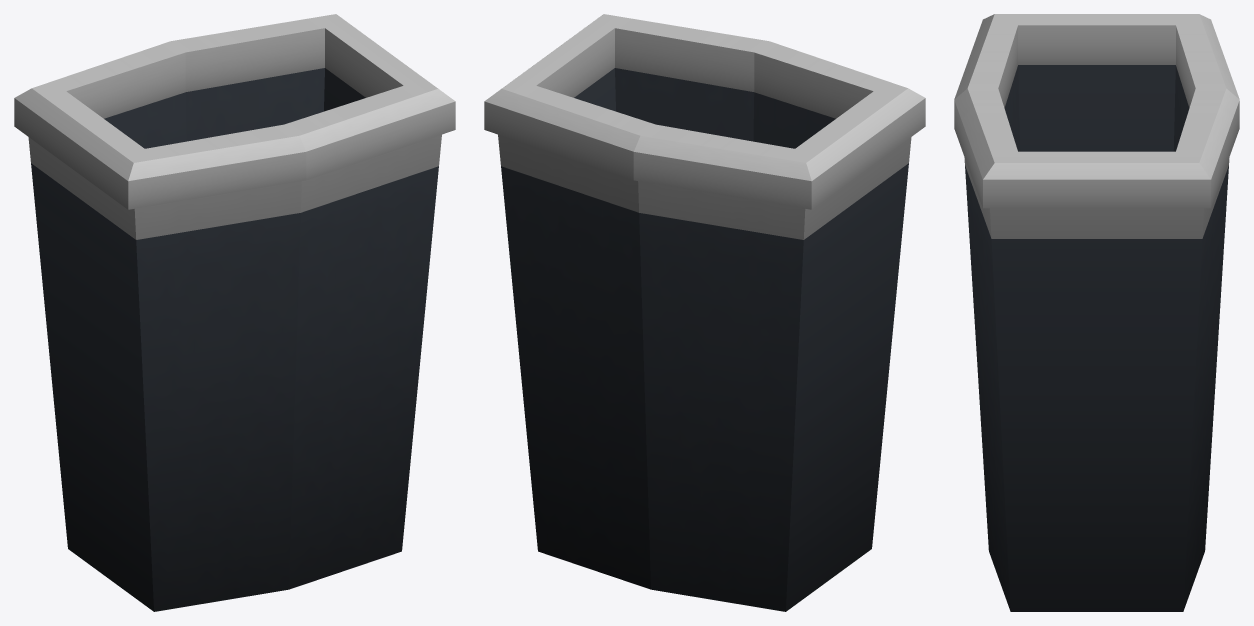
Rendered from 24 Waste Bin.fbx.
3 views of the same model, side by side, from view 1: azimuth 30°, elevation 25°; view 2: azimuth 150°, elevation 25°; view 3: azimuth 270°, elevation 25° (orthographic).
Visible parts, largest first — view 1: Cube.001; view 2: Cube.001; view 3: Cube.001.
Part boxes in pixels (x1,y1,x2,y2): Cube.001: (14,14,455,611); Cube.001: (484,14,925,611); Cube.001: (954,14,1239,611).
Size of the model in its own units: 213 by 287 by 160.
